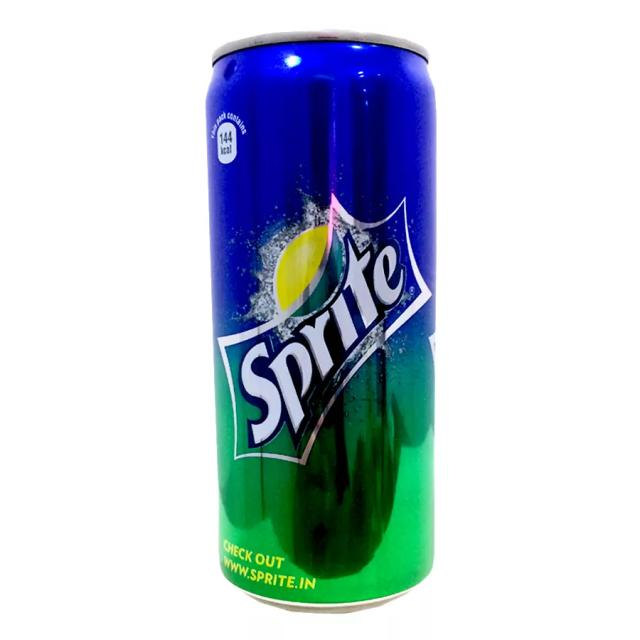soda_can: (188, 43, 498, 612)
